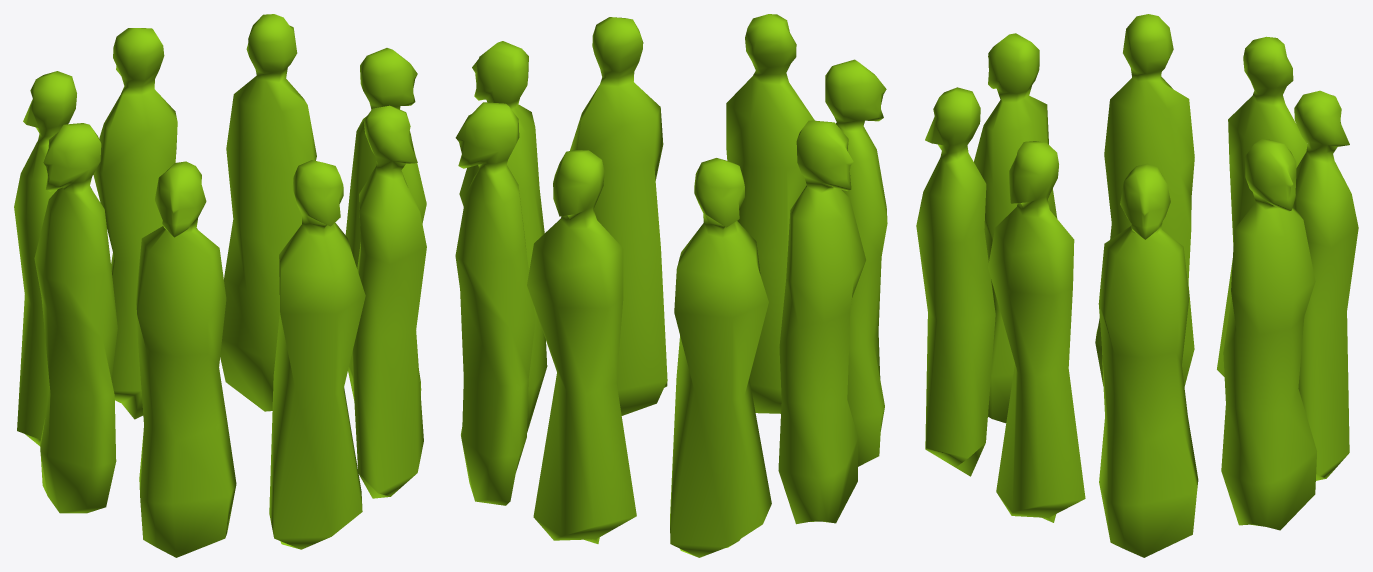
Rendered from Statues_Grp_04_Lod2.fbx.
The picture shows the model from 3 angles, left to right: view 1: azimuth 30°, elevation 25°; view 2: azimuth 150°, elevation 25°; view 3: azimuth 270°, elevation 25°; orthographic projection. The views are drawn at different scales.
Visible parts, largest first — view 1: Statues_Grp_04_Lod2; view 2: Statues_Grp_04_Lod2; view 3: Statues_Grp_04_Lod2.
Part boxes in pixels (x1,y1,x2,y2): Statues_Grp_04_Lod2: (14, 14, 426, 557); Statues_Grp_04_Lod2: (455, 14, 887, 557); Statues_Grp_04_Lod2: (916, 14, 1358, 557).
Size of the model in its own units: 209 by 209 by 216.
